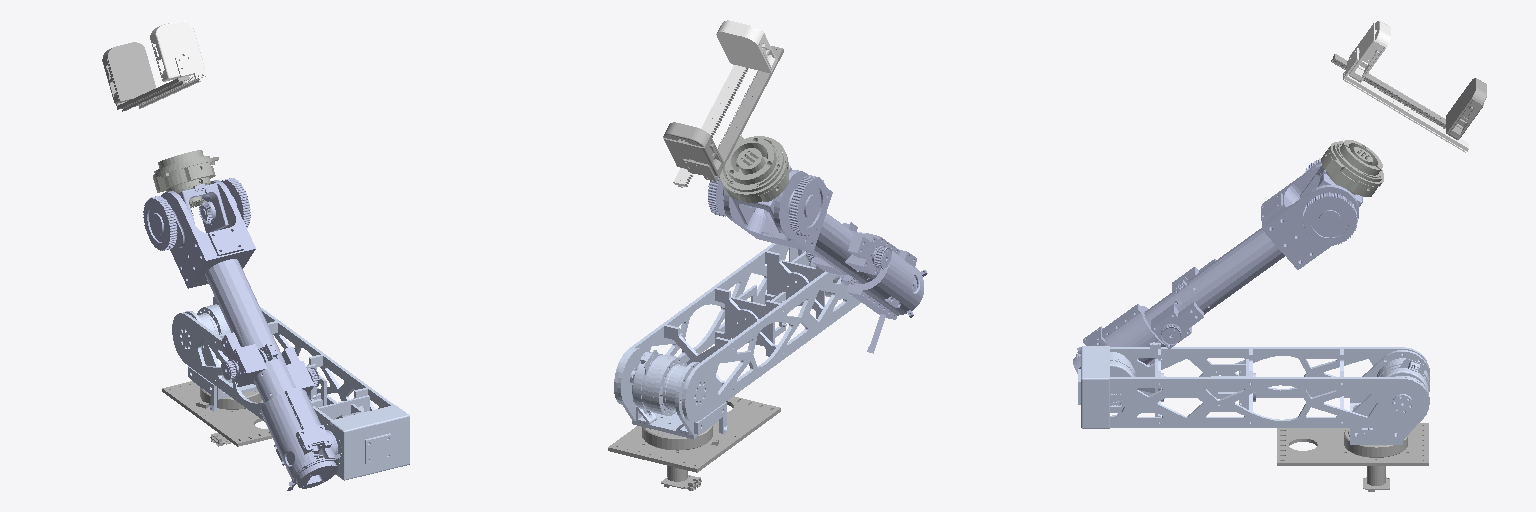
robot.urdf — dev_arm:
<?xml version="1.0" encoding="utf-8"?>
<!-- This URDF was automatically created by SolidWorks to URDF Exporter! Originally created by Stephen Brawner (brawner@gmail.com) 
     Commit Version:   Build Version: 1.6.9372.31930
     For more information, please see http://wiki.ros.org/sw_urdf_exporter -->
<robot
  name="dev_arm">
  <link
    name="base_link">
    <inertial>
      <origin
        xyz="0.0803862782392977 0.138938324698901 0.00237750848221769"
        rpy="0 0 0" />
      <mass
        value="0.763817421365748" />
      <inertia
        ixx="0.00365550963890374"
        ixy="-1.82332862908448E-06"
        ixz="2.98754526812337E-08"
        iyy="0.00157214217192498"
        iyz="-3.28476160142829E-09"
        izz="0.00520465242815667" />
    </inertial>
    <visual>
      <origin
        xyz="0 0 0"
        rpy="0 0 0" />
      <geometry>
        <mesh
          filename="package://dev_arm_description_v2/meshes/base_link.STL" />
      </geometry>
      <material
        name="">
        <color
          rgba="0.752941176470588 0.752941176470588 0.752941176470588 1" />
      </material>
    </visual>
    <collision>
      <origin
        xyz="0 0 0"
        rpy="0 0 0" />
      <geometry>
        <mesh
          filename="package://dev_arm_description_v2/meshes/base_link.STL" />
      </geometry>
    </collision>
  </link>
  <link
    name="a1_shoulder_base">
    <inertial>
      <origin
        xyz="0.00027861641831084 -0.0233439437845335 0.0413589730530282"
        rpy="0 0 0" />
      <mass
        value="1.2159845169735" />
      <inertia
        ixx="0.00146671121305877"
        ixy="5.96190342550183E-08"
        ixz="-1.49127589061434E-07"
        iyy="0.000864137178979533"
        iyz="0.000140156477321599"
        izz="0.00108466557650932" />
    </inertial>
    <visual>
      <origin
        xyz="0 0 0"
        rpy="0 0 0" />
      <geometry>
        <mesh
          filename="package://dev_arm_description_v2/meshes/a1_shoulder_base.STL" />
      </geometry>
      <material
        name="">
        <color
          rgba="0.866666666666667 0.909803921568627 1 1" />
      </material>
    </visual>
    <collision>
      <origin
        xyz="0 0 0"
        rpy="0 0 0" />
      <geometry>
        <mesh
          filename="package://dev_arm_description_v2/meshes/a1_shoulder_base.STL" />
      </geometry>
    </collision>
  </link>
  <joint
    name="shoulder_joint"
    type="continuous">
    <origin
      xyz="0.0875 0.17 0.0381"
      rpy="0 0 -3.1416" />
    <parent
      link="base_link" />
    <child
      link="a1_shoulder_base" />
    <axis
      xyz="0 0 1" />
    <limit
      lower="-3.14"
      upper="3.14"
      effort="10"
      velocity="1.5" />
  </joint>
  <link
    name="a2_link_1">
    <inertial>
      <origin
        xyz="-0.324316065490712 -8.82283367659165E-05 -0.00312305140232091"
        rpy="0 0 0" />
      <mass
        value="2.37795713621316" />
      <inertia
        ixx="0.00258780670386834"
        ixy="-2.31472188395621E-06"
        ixz="-7.7376399526241E-06"
        iyy="0.0394251082116644"
        iyz="-2.53733644675823E-07"
        izz="0.0405572027877698" />
    </inertial>
    <visual>
      <origin
        xyz="0 0 0"
        rpy="0 0 0" />
      <geometry>
        <mesh
          filename="package://dev_arm_description_v2/meshes/a2_link_1.STL" />
      </geometry>
      <material
        name="">
        <color
          rgba="0.866666666666667 0.909803921568627 1 1" />
      </material>
    </visual>
    <collision>
      <origin
        xyz="0 0 0"
        rpy="0 0 0" />
      <geometry>
        <mesh
          filename="package://dev_arm_description_v2/meshes/a2_link_1.STL" />
      </geometry>
    </collision>
  </link>
  <joint
    name="link_1_joint"
    type="revolute">
    <origin
      xyz="0.00282499999999795 -0.0450000000000091 0.0749999999999914"
      rpy="1.5707963267949 0 -1.5707963267949" />
    <parent
      link="a1_shoulder_base" />
    <child
      link="a2_link_1" />
    <axis
      xyz="0 0 1" />
    <limit
      lower="-3.14"
      upper="0"
      effort="10"
      velocity="1.5" />
  </joint>
  <link
    name="a3_axis4_housing">
    <inertial>
      <origin
        xyz="0.0466211562050391 0.00818126323673461 0.0161470492830732"
        rpy="0 0 0" />
      <mass
        value="0.405543595440366" />
      <inertia
        ixx="0.000697940268173563"
        ixy="-1.15833624956605E-05"
        ixz="-1.45405411999426E-05"
        iyy="0.000449834279179675"
        iyz="-6.43209194013231E-05"
        izz="0.000430824953350791" />
    </inertial>
    <visual>
      <origin
        xyz="0 0 0"
        rpy="0 0 0" />
      <geometry>
        <mesh
          filename="package://dev_arm_description_v2/meshes/a3_axis4_housing.STL" />
      </geometry>
      <material
        name="">
        <color
          rgba="0.792156862745098 0.819607843137255 0.933333333333333 1" />
      </material>
    </visual>
    <collision>
      <origin
        xyz="0 0 0"
        rpy="0 0 0" />
      <geometry>
        <mesh
          filename="package://dev_arm_description_v2/meshes/a3_axis4_housing.STL" />
      </geometry>
    </collision>
  </link>
  <joint
    name="link1_link2"
    type="revolute">
    <origin
      xyz="-0.500000000000008 0 -0.063039642892861"
      rpy="0 1.5707963267949 0" />
    <parent
      link="a2_link_1" />
    <child
      link="a3_axis4_housing" />
    <axis
      xyz="-1 0 0" />
    <limit
      lower="-3.14"
      upper="3.14"
      effort="10"
      velocity="1.5" />
  </joint>
  <link
    name="a4_link2">
    <inertial>
      <origin
        xyz="0.0859436753269209 0.000520432616544109 -0.000231377005323458"
        rpy="0 0 0" />
      <mass
        value="1.69468727862981" />
      <inertia
        ixx="0.0014685385115831"
        ixy="3.62349731724529E-05"
        ixz="-1.71567520042742E-05"
        iyy="0.00851214875637219"
        iyz="-4.02328548665996E-06"
        izz="0.00918980958127426" />
    </inertial>
    <visual>
      <origin
        xyz="0 0 0"
        rpy="0 0 0" />
      <geometry>
        <mesh
          filename="package://dev_arm_description_v2/meshes/a4_link2.STL" />
      </geometry>
      <material
        name="">
        <color
          rgba="0.792156862745098 0.819607843137255 0.933333333333333 1" />
      </material>
    </visual>
    <collision>
      <origin
        xyz="0 0 0"
        rpy="0 0 0" />
      <geometry>
        <mesh
          filename="package://dev_arm_description_v2/meshes/a4_link2.STL" />
      </geometry>
    </collision>
  </link>
  <joint
    name="a4_rotation"
    type="revolute">
    <origin
      xyz="0.0497860905660309 0.148506406755493 0.186703382508224"
      rpy="-1.5707963267949 -0.8988564555898 1.5707963267949" />
    <parent
      link="a3_axis4_housing" />
    <child
      link="a4_link2" />
    <axis
      xyz="-1 0 0" />
    <limit
      lower="-1.57"
      upper="3.14"
      effort="10"
      velocity="1.5" />
  </joint>
  <link
    name="a5_internal_upright">
    <inertial>
      <origin
        xyz="0.0248892665074707 0.00880117848885809 0.00583694857701647"
        rpy="0 0 0" />
      <mass
        value="0.167323738643551" />
      <inertia
        ixx="0.000139240659778515"
        ixy="1.27820972119031E-10"
        ixz="3.43967566730659E-10"
        iyy="0.000151677157680944"
        iyz="6.67660553658305E-06"
        izz="0.000143582597351709" />
    </inertial>
    <visual>
      <origin
        xyz="0 0 0"
        rpy="0 0 0" />
      <geometry>
        <mesh
          filename="package://dev_arm_description_v2/meshes/a5_internal_upright.STL" />
      </geometry>
      <material
        name="">
        <color
          rgba="0.792156862745098 0.819607843137255 0.933333333333333 1" />
      </material>
    </visual>
    <collision>
      <origin
        xyz="0 0 0"
        rpy="0 0 0" />
      <geometry>
        <mesh
          filename="package://dev_arm_description_v2/meshes/a5_internal_upright.STL" />
      </geometry>
    </collision>
  </link>
  <joint
    name="a5_rotation"
    type="revolute">
    <origin
      xyz="0.241736998075445 0 0.0240007334588877"
      rpy="0.671939871205096 1.5707963267949 0" />
    <parent
      link="a4_link2" />
    <child
      link="a5_internal_upright" />
    <axis
      xyz="1 0 0" />
    <limit
      lower="-3.14"
      upper="3.14"
      effort="10"
      velocity="1.5" />
  </joint>
  <link
    name="a6_EE_holder">
    <inertial>
      <origin
        xyz="-0.0339647464842324 0.000122037593266067 0.000177794121861106"
        rpy="0 0 0" />
      <mass
        value="0.378687643103429" />
      <inertia
        ixx="0.000462382976687633"
        ixy="5.97853540409082E-08"
        ixz="-1.69043990903731E-07"
        iyy="0.00029700747719619"
        iyz="-2.19627429740862E-06"
        izz="0.000295719425696946" />
    </inertial>
    <visual>
      <origin
        xyz="0 0 0"
        rpy="0 0 0" />
      <geometry>
        <mesh
          filename="package://dev_arm_description_v2/meshes/a6_EE_holder.STL" />
      </geometry>
      <material
        name="">
        <color
          rgba="0.756862745098039 0.768627450980392 0.752941176470588 1" />
      </material>
    </visual>
    <collision>
      <origin
        xyz="0 0 0"
        rpy="0 0 0" />
      <geometry>
        <mesh
          filename="package://dev_arm_description_v2/meshes/a6_EE_holder.STL" />
      </geometry>
    </collision>
  </link>
  <joint
    name="a6_rotation"
    type="continuous">
    <origin
      xyz="0.0249999999999973 0.0872905492585429 0.0572248321024004"
      rpy="-1.5707963267949 -0.580279032437534 1.5707963267949" />
    <parent
      link="a5_internal_upright" />
    <child
      link="a6_EE_holder" />
    <axis
      xyz="-1 0 0" />
    <limit
      effort="10"
      velocity="1.5" />
  </joint>
  <joint
    name="joint_ee"
    type="fixed">
    <origin
      xyz="0.1 0.0 0.0"
      rpy="0 1.571 0" />
    <parent
      link="a6_EE_holder" />
    <child
      link="ee_base_link" />
    <axis
      xyz="1.55075 -0.063574 -0.83224" />
  </joint>
    <link
    name="ee_base_link">
    <inertial>
      <origin
        xyz="-0.0011063785182417 0.000415259727448674 -0.0398049819853404"
        rpy="0 0 0" />
      <mass
        value="0.628367460355529" />
      <inertia
        ixx="0.000340294819855205"
        ixy="-1.32628061393646E-05"
        ixz="-5.77189775258839E-06"
        iyy="0.000313942030327772"
        iyz="2.26931733118351E-06"
        izz="0.000481162425041832" />
    </inertial>
    <visual>
      <origin
        xyz="0 0 0"
        rpy="0 0 0" />
      <geometry>
        <mesh
          filename="package://dev_arm_description_v2/meshes/ee_base_link.STL" />
      </geometry>
      <material
        name="">
        <color
          rgba="0.866666666666667 0.909803921568627 1 1" />
      </material>
    </visual>
    <collision>
      <origin
        xyz="0 0 0"
        rpy="0 0 0" />
      <geometry>
        <mesh
          filename="package://dev_arm_description_v2/meshes/ee_base_link.STL" />
      </geometry>
    </collision>
  </link>
  <link
    name="finger_left">
    <inertial>
      <origin
        xyz="0.010088 -0.046782 0.08035"
        rpy="0 0 0" />
      <mass
        value="0.59189" />
      <inertia
        ixx="0.0016698"
        ixy="-1.3804E-07"
        ixz="4.1879E-07"
        iyy="0.00035722"
        iyz="-2.0932E-05"
        izz="0.0015228" />
    </inertial>
    <visual>
      <origin
        xyz="0 0 0"
        rpy="0 0 0" />
      <geometry>
        <mesh
          filename="package://dev_arm_description_v2/meshes/finger_left.STL" />
      </geometry>
      <material
        name="">
        <color
          rgba="0.75294 0.75294 0.75294 1" />
      </material>
    </visual>
    <collision>
      <origin
        xyz="0 0 0"
        rpy="0 0 0" />
      <geometry>
        <mesh
          filename="package://dev_arm_description_v2/meshes/finger_left.STL" />
      </geometry>
    </collision>
  </link>
  <joint
    name="finger_left_joint"
    type="prismatic">
    <origin
      xyz="0 0 0"
      rpy="0 0 0" />
    <parent
      link="ee_base_link" />
    <child
      link="finger_left" />
    <axis
      xyz="0 1 0" />
    <limit
      lower="-0.04"
      upper="0.04"
      effort="10"
      velocity="0.5" />
  </joint>
  <link
    name="finger_right">
    <inertial>
      <origin
        xyz="0 0 0"
        rpy="0 0 0" />
      <mass
        value="0" />
      <inertia
        ixx="0"
        ixy="0"
        ixz="0"
        iyy="0"
        iyz="0"
        izz="0" />
    </inertial>
    <visual>
      <origin
        xyz="0 0 0"
        rpy="0 0 0" />
      <geometry>
        <mesh
          filename="package://dev_arm_description_v2/meshes/finger_right.STL" />
      </geometry>
      <material
        name="">
        <color
          rgba="1 1 1 1" />
      </material>
    </visual>
    <collision>
      <origin
        xyz="0 0 0"
        rpy="0 0 0" />
      <geometry>
        <mesh
          filename="package://dev_arm_description_v2/meshes/finger_right.STL" />
      </geometry>
    </collision>
  </link>
  <joint
    name="finger_right_joint"
    type="prismatic">
    <origin
      xyz="0 0 0"
      rpy="0 0 0" />
    <parent
      link="ee_base_link" />
    <child
      link="finger_right" />
    <axis
      xyz="0 1 0" />
    <limit
      lower="-0.04"
      upper="0.04"
      effort="10"
      velocity="0.5" />
  </joint>
</robot>

--- Facts derived from the render (not from the file) ---
The picture shows the robot from 3 angles, left to right: view 1: azimuth 30°, elevation 25°; view 2: azimuth 150°, elevation 25°; view 3: azimuth 270°, elevation 25°; orthographic projection.
Robot: dev_arm — 10 links, 9 joints (4 revolute, 2 continuous, 2 prismatic, 1 fixed); root link base_link; default pose: all joints at 0.
Visible links, largest first — view 1: a4_link2, a2_link_1, a3_axis4_housing, base_link, finger_left, finger_right, a6_EE_holder, a1_shoulder_base, a5_internal_upright; view 2: a2_link_1, a4_link2, a1_shoulder_base, base_link, finger_left, a6_EE_holder, a3_axis4_housing, finger_right, a5_internal_upright; view 3: a2_link_1, a4_link2, base_link, a1_shoulder_base, finger_right, a6_EE_holder, finger_left, a3_axis4_housing.
Link boxes in pixels (x1,y1,x2,y2): a4_link2: (143,178,319,403); a2_link_1: (172,307,409,480); a3_axis4_housing: (260,387,340,490); base_link: (162,381,271,446); finger_left: (102,42,189,111); finger_right: (138,21,205,108); a6_EE_holder: (153,150,218,207); a1_shoulder_base: (185,296,256,411); a5_internal_upright: (155,183,228,232); a2_link_1: (614,232,865,422); a4_link2: (708,170,891,285); a1_shoulder_base: (617,348,726,438); base_link: (608,396,780,490); finger_left: (663,46,783,181); a6_EE_holder: (720,135,788,202); a3_axis4_housing: (839,233,927,353); finger_right: (673,20,777,187); a5_internal_upright: (732,165,813,232); a2_link_1: (1078,342,1429,428); a4_link2: (1144,158,1358,348); base_link: (1277,423,1428,491); a1_shoulder_base: (1350,350,1429,444); finger_right: (1343,21,1468,152); a6_EE_holder: (1321,140,1383,196); finger_left: (1331,54,1486,139); a3_axis4_housing: (1073,304,1173,373).
Bounding box of the posed robot: 0.2682 × 0.7092 × 0.8176 m (x, y, z).
9 mesh visuals loaded from 10 distinct referenced files (9 binary STL); not drawn: 1 (reference not matched to a file when rendering).
